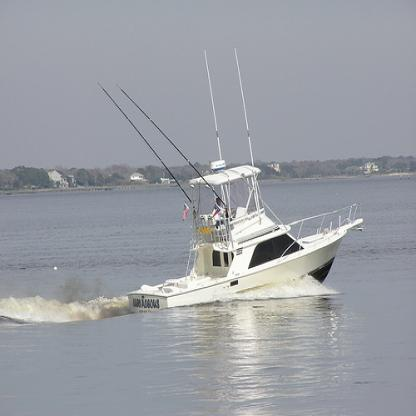boat: (95, 50, 364, 311)
